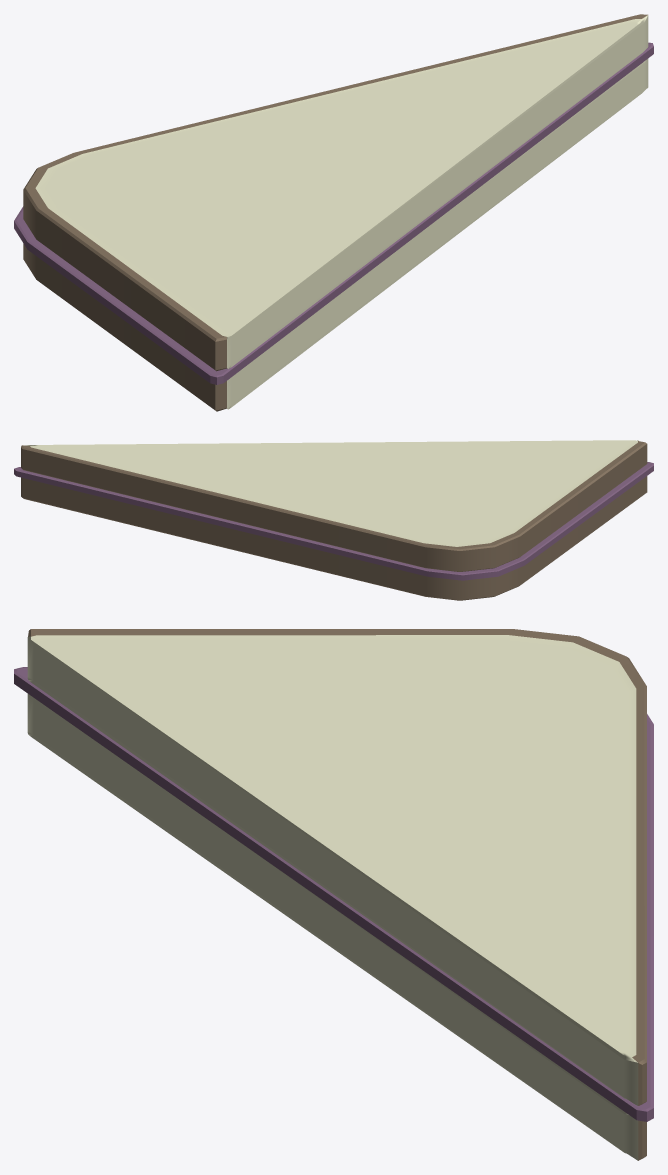
Rendered from Sandwich Half.fbx.
The picture shows the model from 3 angles, top to bottom: view 1: azimuth 30°, elevation 25°; view 2: azimuth 150°, elevation 25°; view 3: azimuth 270°, elevation 25°; orthographic projection. The views are drawn at different scales.
Parts seen in each view (by area): view 1: pCube4; view 2: pCube4; view 3: pCube4.
Part boxes in pixels (x1,y1,x2,y2): pCube4: (14,14,653,411); pCube4: (14,440,653,600); pCube4: (14,629,653,1160).
Size of the model in its own units: 15.5 by 1.6 by 9.43.
